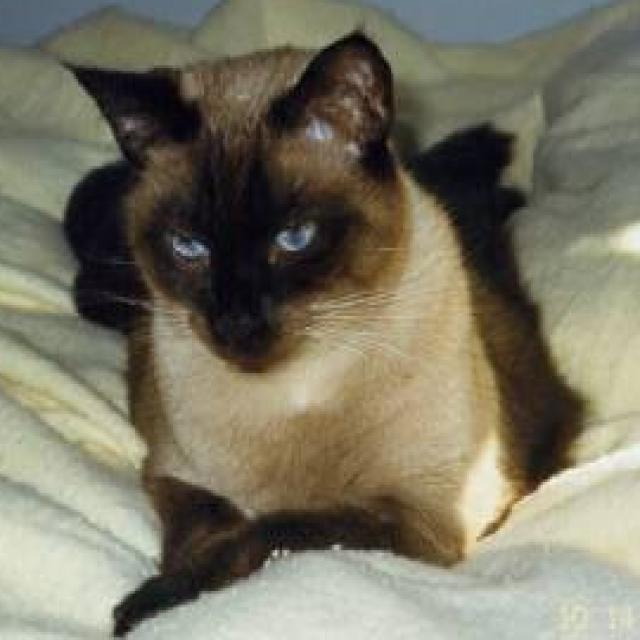Siamese: (54, 24, 583, 640)
